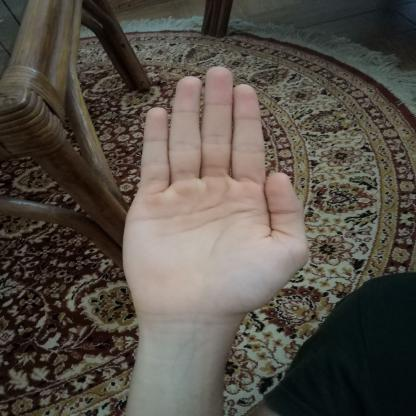SEEN: (108, 58, 316, 331)
